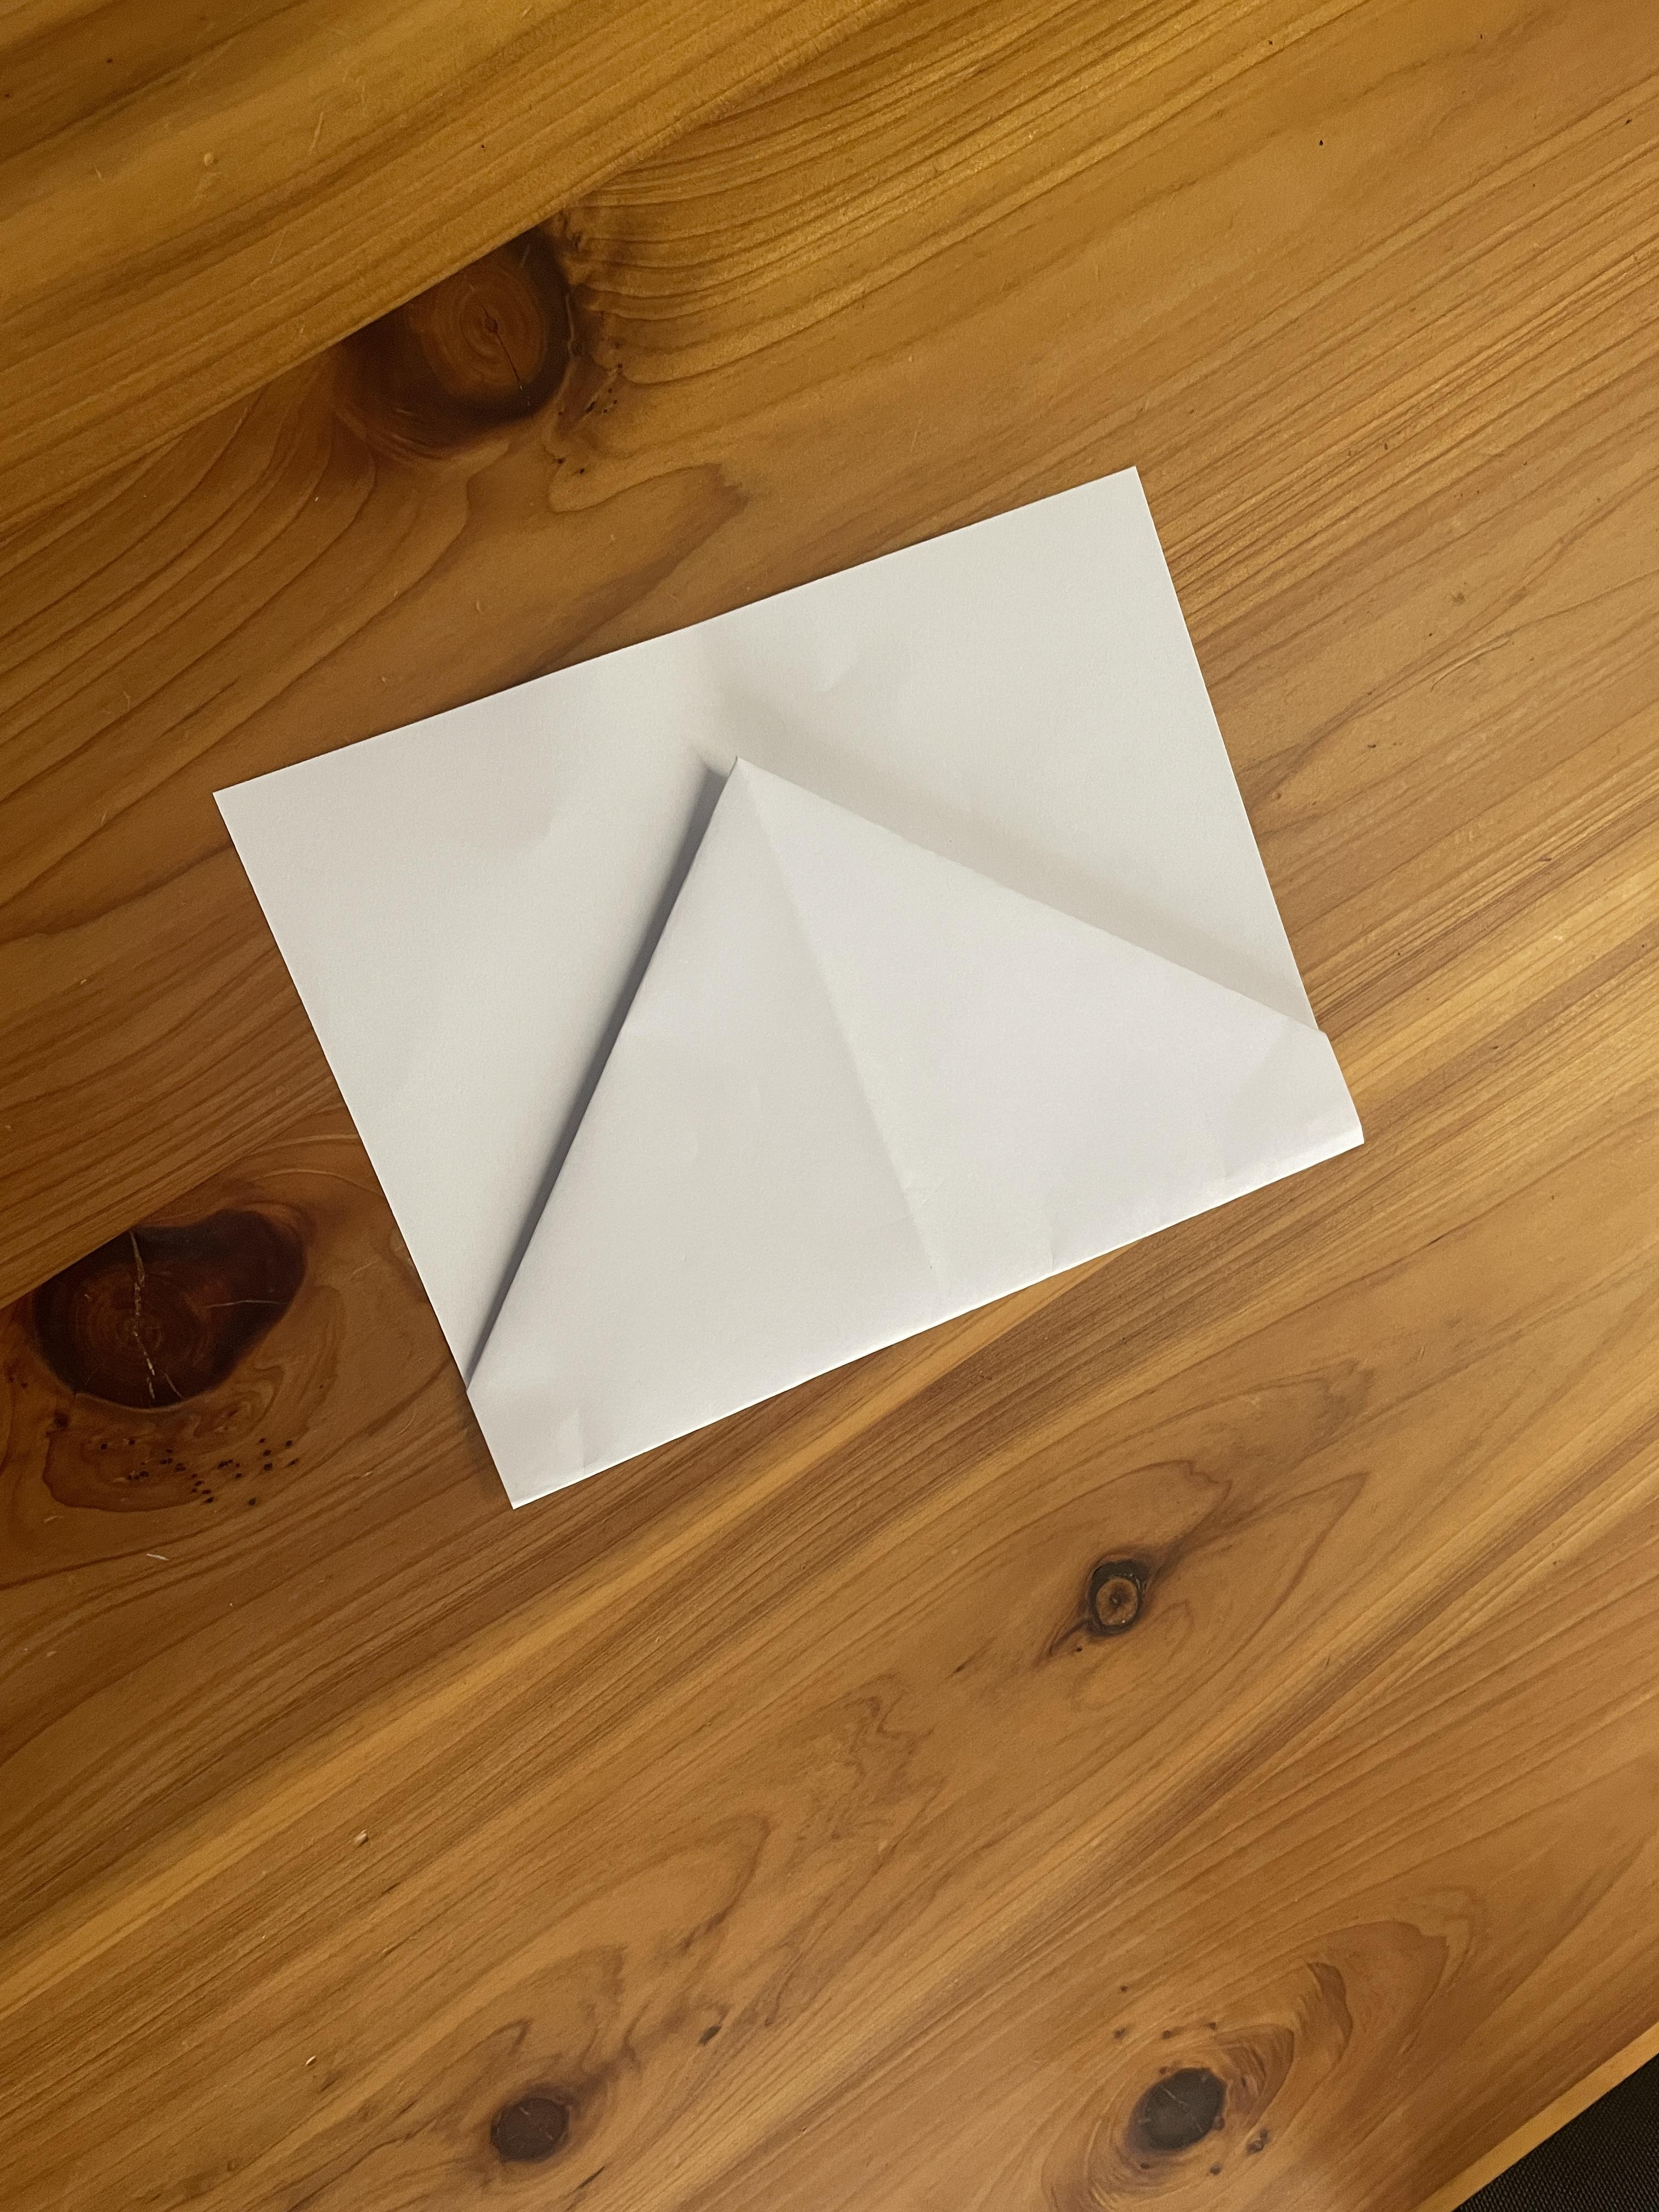shape_1: (143, 418, 1539, 1573)
